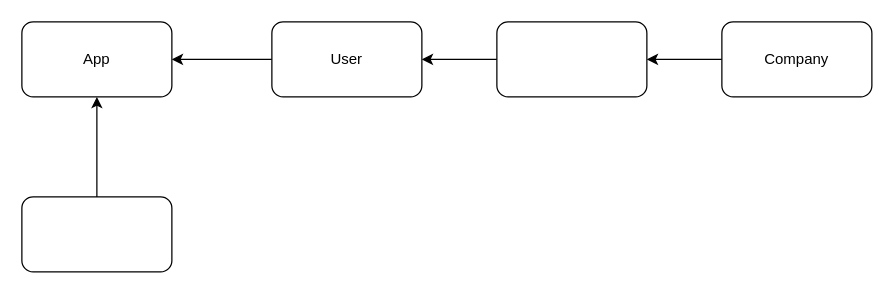
Image size: 894x294. Some labels were removed from this diagram. The shapes that lost their labels are listed below. From the top down, each one's centre as x and y in pixels, then its label:
At (571,59): "JobOffer".
At (96,234): "Auth0".
